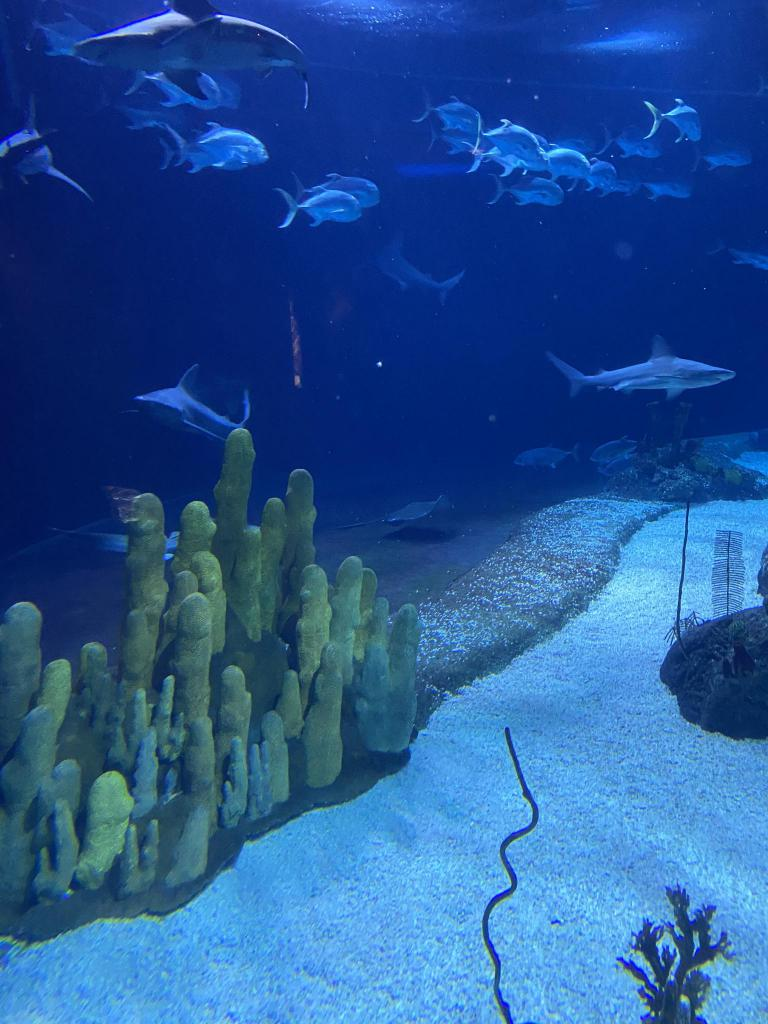Fish: (274, 186, 360, 226)
Shark: (548, 335, 735, 401)
